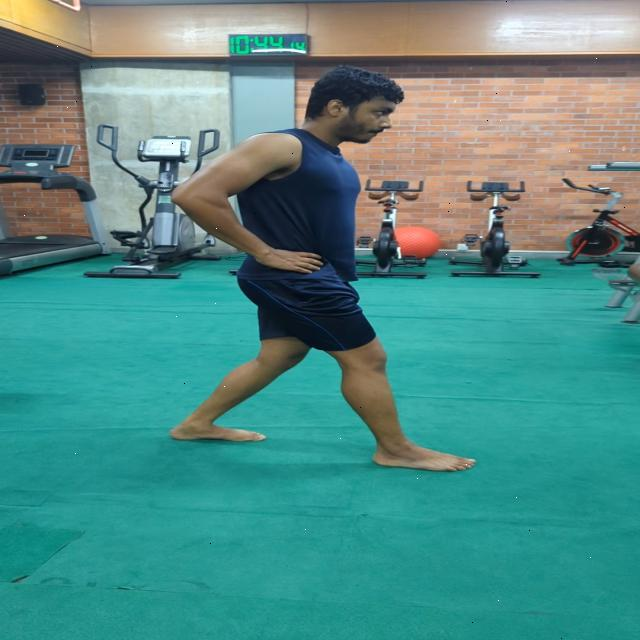Normal_Lunges: (131, 62, 507, 482)
